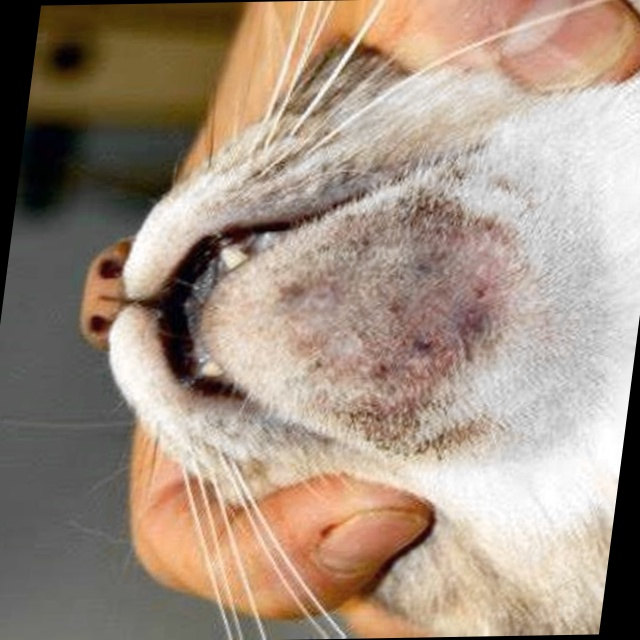acne: (263, 184, 524, 442)
